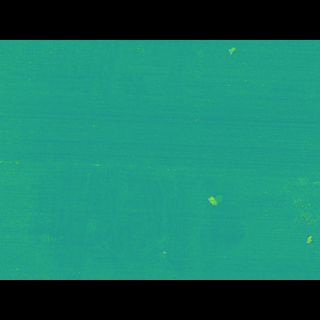Loch: (12, 161, 254, 252)
